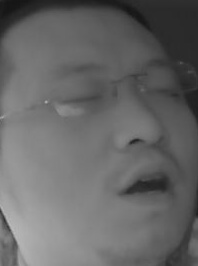glass: (52, 76, 118, 116), (137, 58, 196, 102)
mouth: (114, 159, 178, 203)
